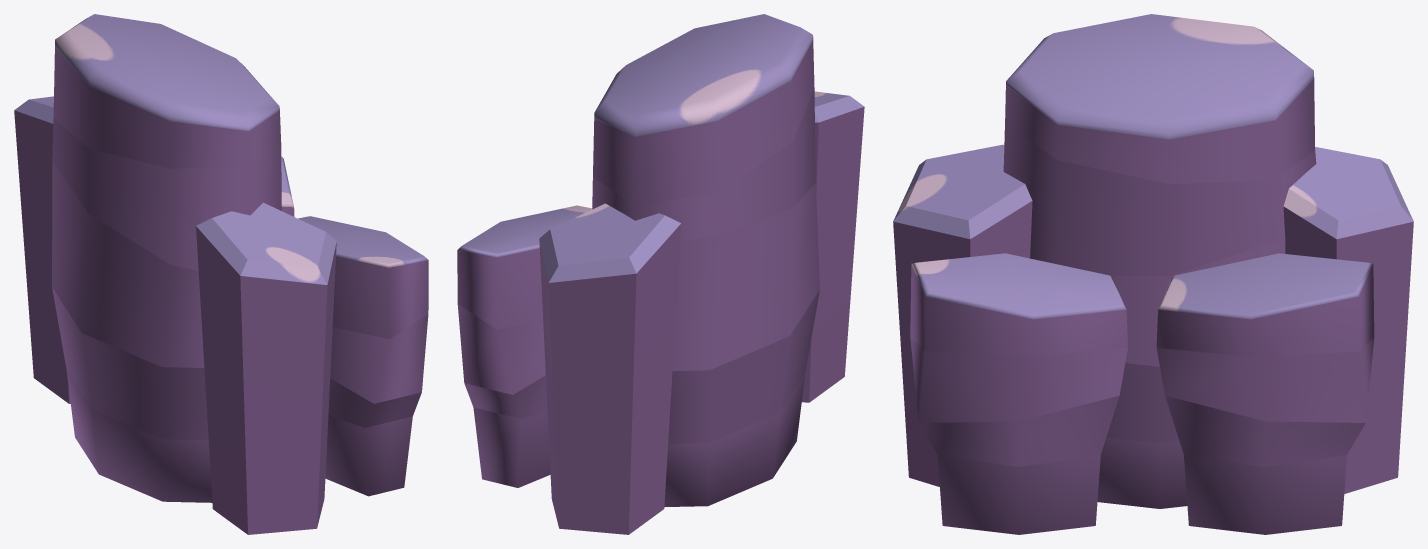
The model's file is rock.fbx.
3 renders of one model, left to right at view 1: azimuth 30°, elevation 25°; view 2: azimuth 150°, elevation 25°; view 3: azimuth 270°, elevation 25°, orthographic. The views are drawn at different scales.
Visible parts, largest first — view 1: polySurface8, polySurface12, polySurface10, polySurface22, polySurface14, polySurface24, polySurface20, polySurface18, polySurface13, polySurface19, polySurface25, polySurface23 (+6 smaller); view 2: polySurface8, polySurface12, polySurface16, polySurface14, polySurface28, polySurface10, polySurface21, polySurface2, polySurface27, polySurface13, polySurface4, polySurface5 (+5 smaller); view 3: polySurface8, polySurface10, polySurface24, polySurface2, polySurface25, polySurface4, polySurface22, polySurface16, polySurface23, polySurface5, polySurface26, polySurface6 (+9 smaller).
Boxes of the visible parts, x1,y1,x2,y2 form: polySurface8: [53, 14, 281, 168]; polySurface12: [52, 159, 204, 367]; polySurface10: [52, 118, 281, 270]; polySurface22: [196, 202, 336, 315]; polySurface14: [52, 287, 208, 440]; polySurface24: [298, 216, 428, 339]; polySurface20: [201, 310, 332, 458]; polySurface18: [200, 291, 334, 400]; polySurface13: [66, 369, 212, 502]; polySurface19: [208, 431, 327, 534]; polySurface25: [330, 314, 428, 403]; polySurface23: [325, 415, 412, 496]; polySurface8: [593, 14, 814, 206]; polySurface12: [672, 183, 819, 371]; polySurface16: [539, 203, 681, 313]; polySurface14: [668, 290, 819, 443]; polySurface28: [543, 308, 676, 458]; polySurface10: [592, 87, 815, 240]; polySurface21: [541, 288, 677, 399]; polySurface2: [457, 205, 592, 329]; polySurface27: [548, 429, 668, 534]; polySurface13: [664, 373, 805, 507]; polySurface4: [457, 304, 545, 394]; polySurface5: [473, 407, 550, 487]; polySurface8: [1005, 14, 1314, 184]; polySurface10: [1003, 122, 1316, 275]; polySurface24: [910, 253, 1127, 356]; polySurface2: [1156, 253, 1374, 356]; polySurface25: [910, 338, 1127, 422]; polySurface4: [1156, 338, 1374, 422]; polySurface22: [893, 144, 1032, 262]; polySurface16: [1283, 147, 1413, 269]; polySurface23: [937, 455, 1100, 534]; polySurface5: [1184, 455, 1346, 534]; polySurface26: [919, 395, 1119, 466]; polySurface6: [1165, 395, 1365, 466].
Size of the model in its own units: 4.77 by 7.54 by 8.38.
1 material, 1 textured.
